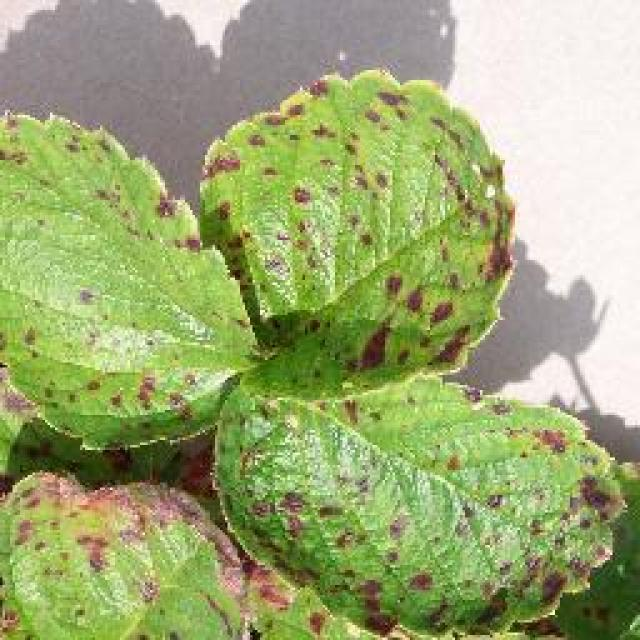Strawberry leaf scorch: (225, 127, 473, 370)
